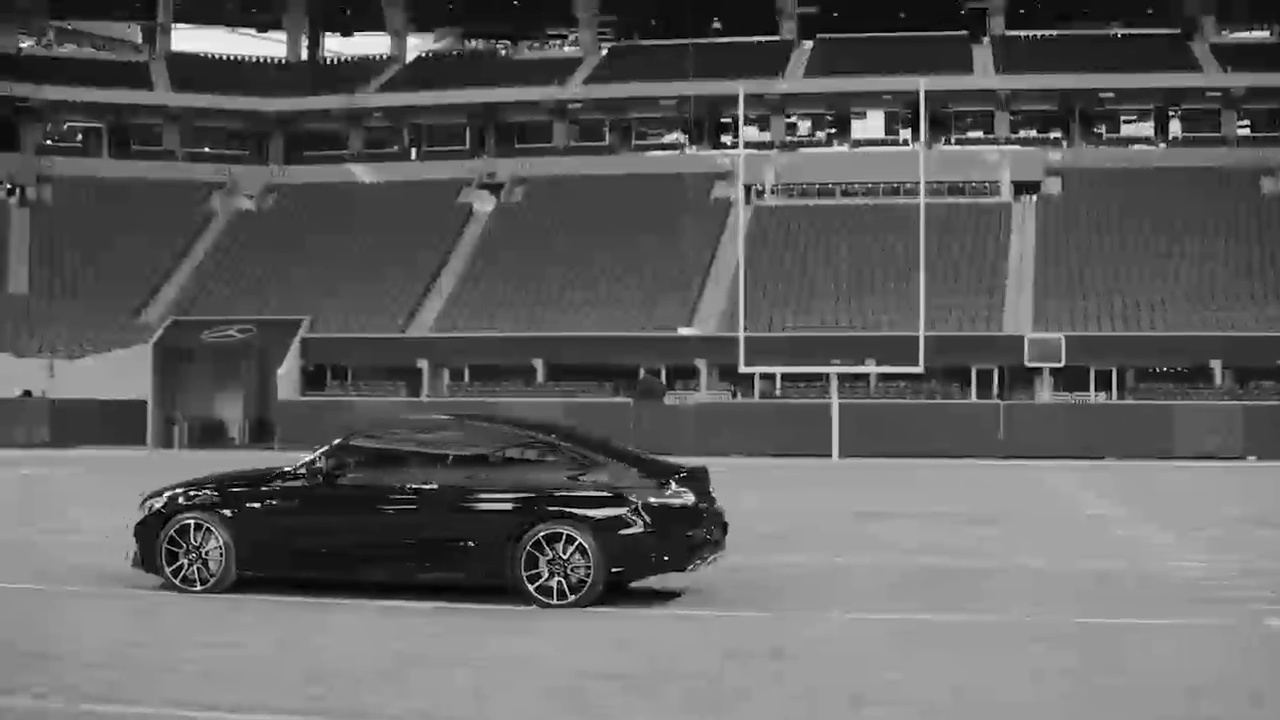car: (120, 413, 734, 613)
